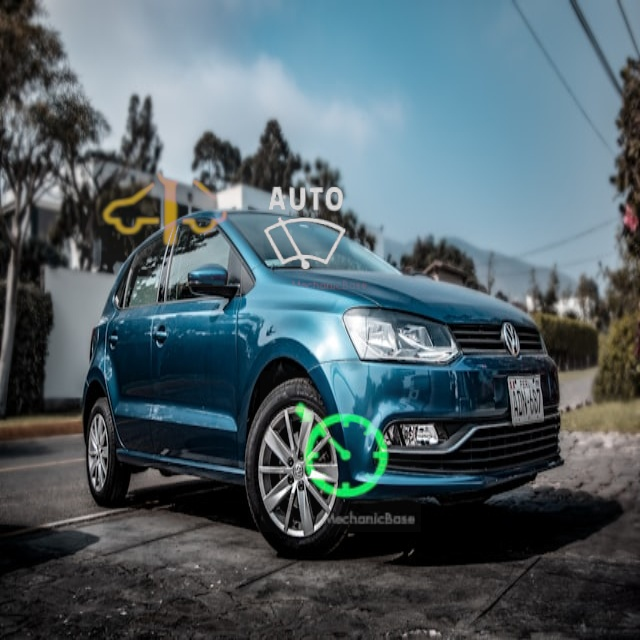symbol: (82, 122, 247, 287), (260, 371, 421, 532), (239, 163, 372, 296)
